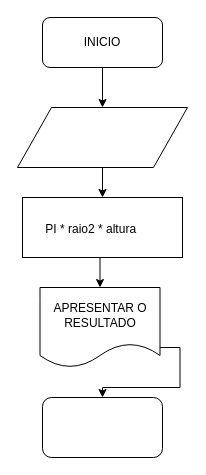
Image size: 206x475. Some labels were removed from this diagram. The shapes that lost their labels are listed below. From the top down, each one's centre as x and y in pixels, then its label:
point (102, 137): LER DOIS NUMEROS
point (102, 427): FIM
